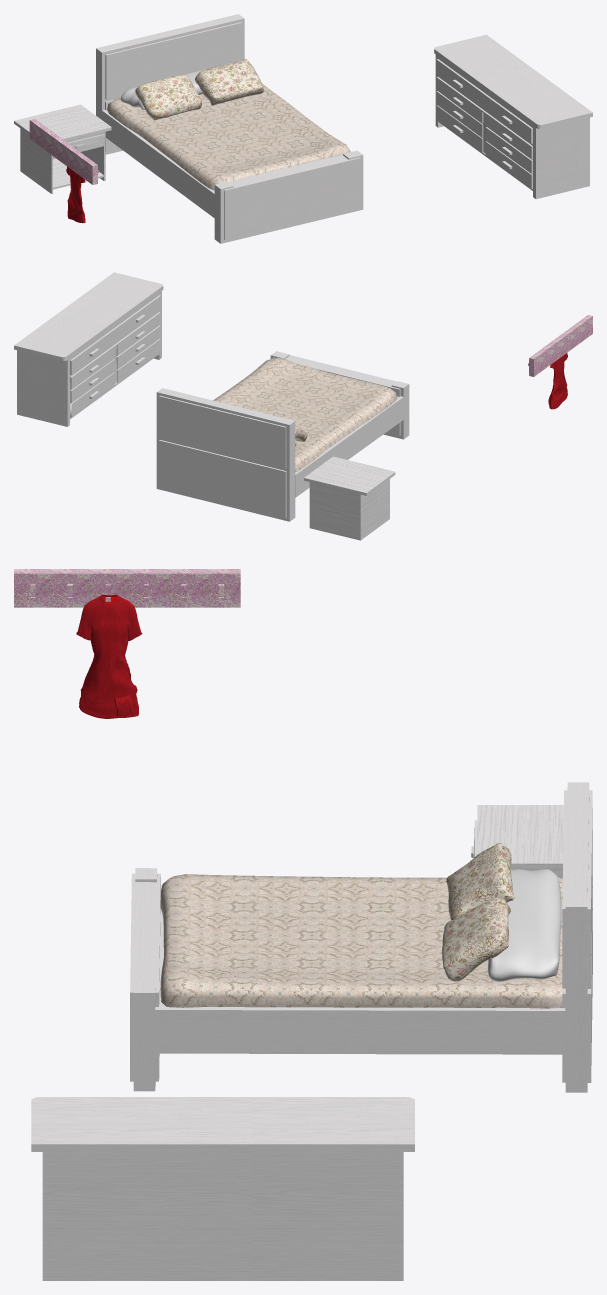
The model's file is CamaJack_mesinha_cabideevestido_comoda.fbx.
3 views of the same model, one above another, from view 1: azimuth 30°, elevation 25°; view 2: azimuth 150°, elevation 25°; view 3: azimuth 270°, elevation 25° (orthographic). The views are drawn at different scales.
Parts seen in each view (by area): view 1: cama_jack, comodaJ, colchao1, mesinha_lado_cama1, travesseiro3, travesseiiro2, cabideiro_parede, camisa, travesseiroG; view 2: cama_jack, comodaJ, colchao1, mesinha_lado_cama1, cabideiro_parede, camisa; view 3: comodaJ, colchao1, cama_jack, cabideiro_parede, travesseiroG, camisa, mesinha_lado_cama1, travesseiro3, travesseiiro2.
Boxes of the visible parts, x1,y1,x2,y2 form: cama_jack: (96,14,363,243); comodaJ: (434,34,592,199); colchao1: (107,83,350,190); mesinha_lado_cama1: (14,104,111,193); travesseiro3: (195,59,263,105); travesseiiro2: (135,74,201,120); cabideiro_parede: (29,119,98,184); camisa: (66,166,85,223); travesseiroG: (120,62,231,110); cama_jack: (156,351,409,521); comodaJ: (14,272,163,426); colchao1: (213,357,397,471); mesinha_lado_cama1: (304,456,395,540); cabideiro_parede: (528,315,592,376); camisa: (548,353,567,409); comodaJ: (31,1097,414,1280); colchao1: (160,874,565,1008); cama_jack: (130,782,592,1092); cabideiro_parede: (14,569,240,607); travesseiroG: (488,869,561,981); camisa: (76,594,142,718); mesinha_lado_cama1: (471,805,563,878); travesseiro3: (442,897,510,981); travesseiiro2: (446,842,514,920).
Size of the model in its own units: 22.99 by 6.48 by 12.68.
8 materials, 6 textured.
